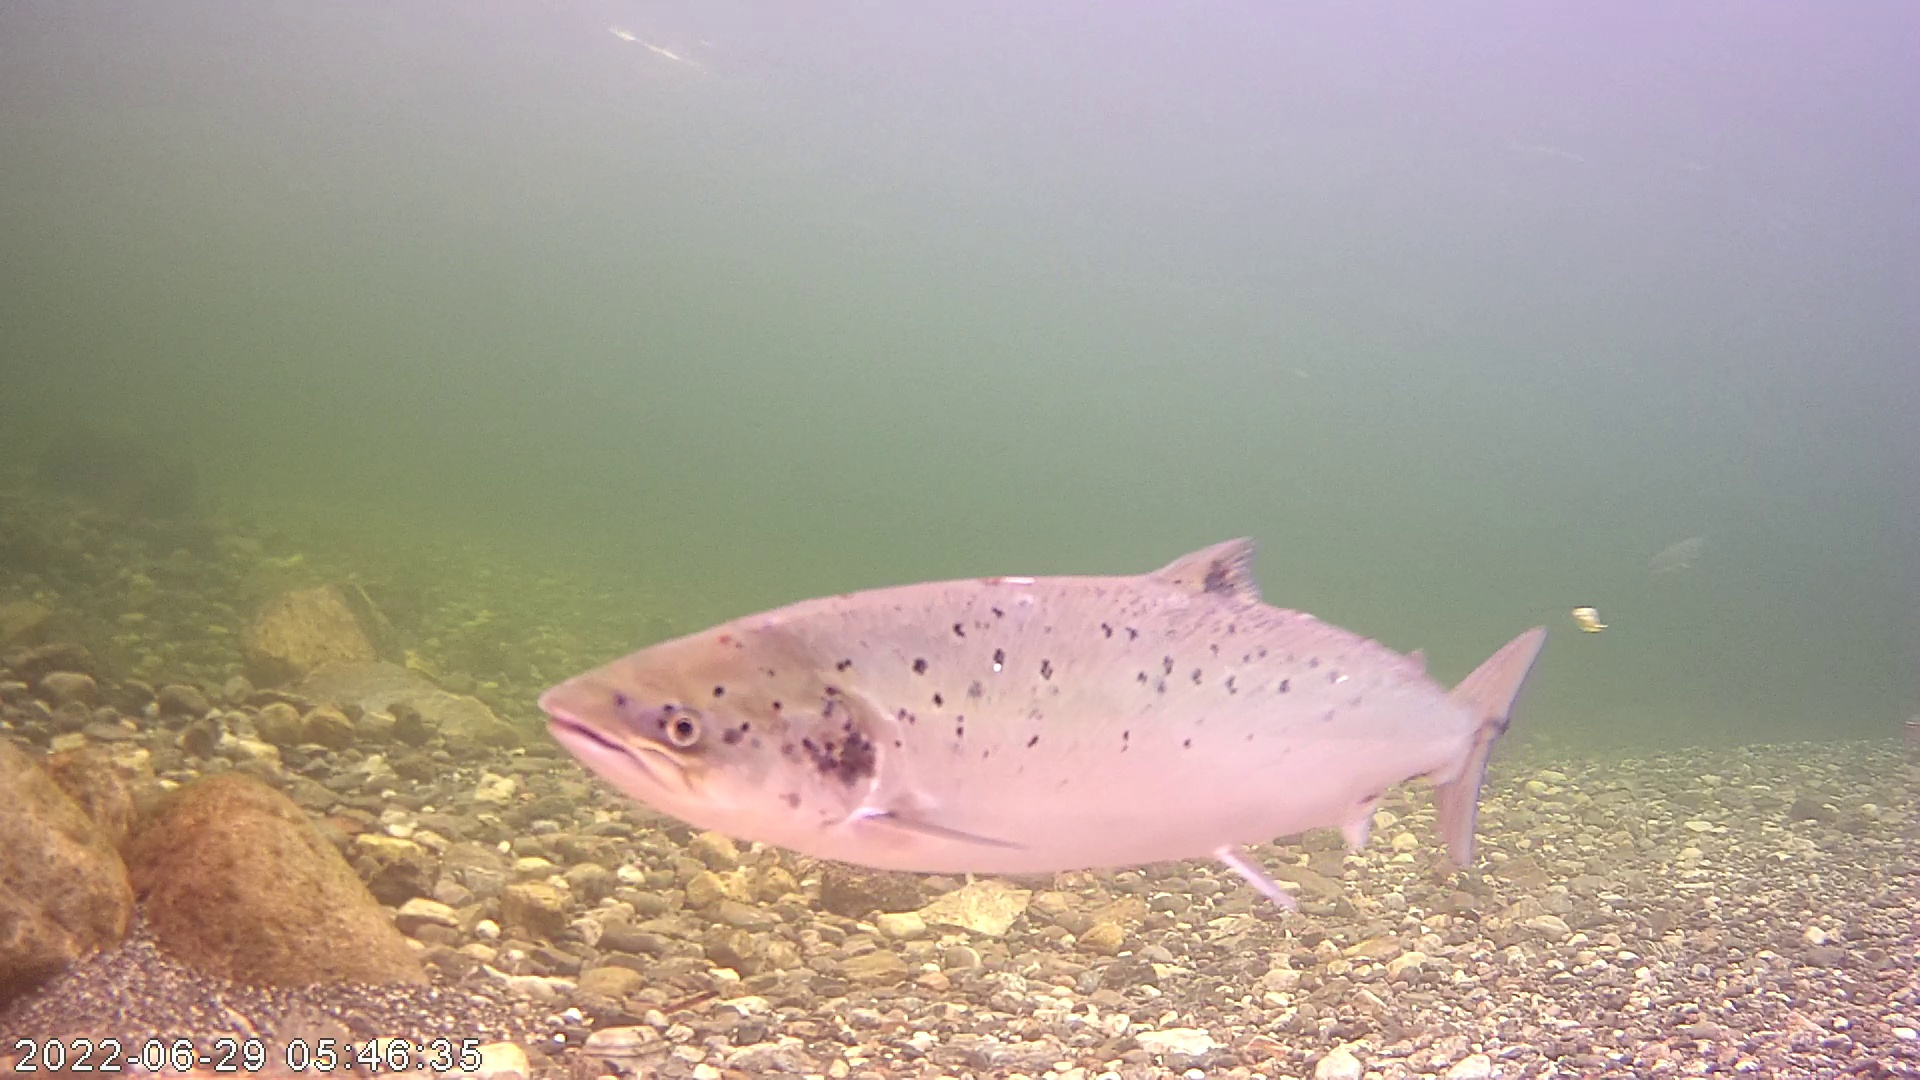salmon: (549, 419, 1547, 919)
